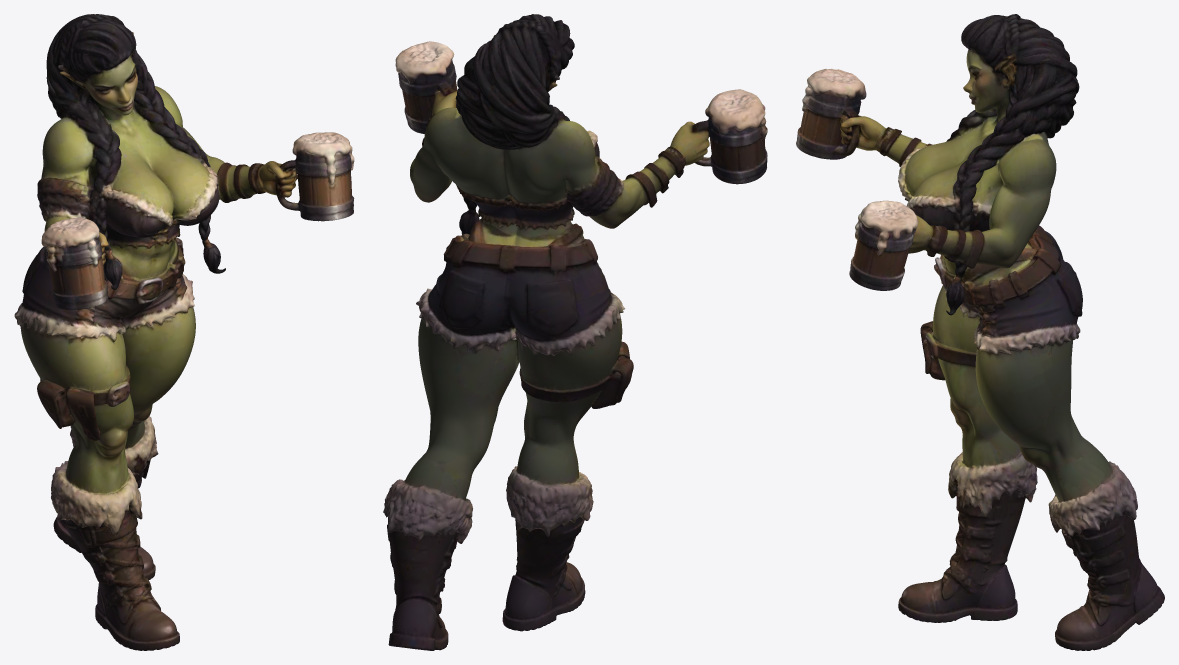
File: orcbarmaid.glb
3 views of the same model, side by side, from view 1: azimuth 30°, elevation 25°; view 2: azimuth 150°, elevation 25°; view 3: azimuth 270°, elevation 25° (orthographic). The views are drawn at different scales.
Bounding box in the file's own units: 1.1 × 1.9 × 1.08.
1 material, 1 textured.
